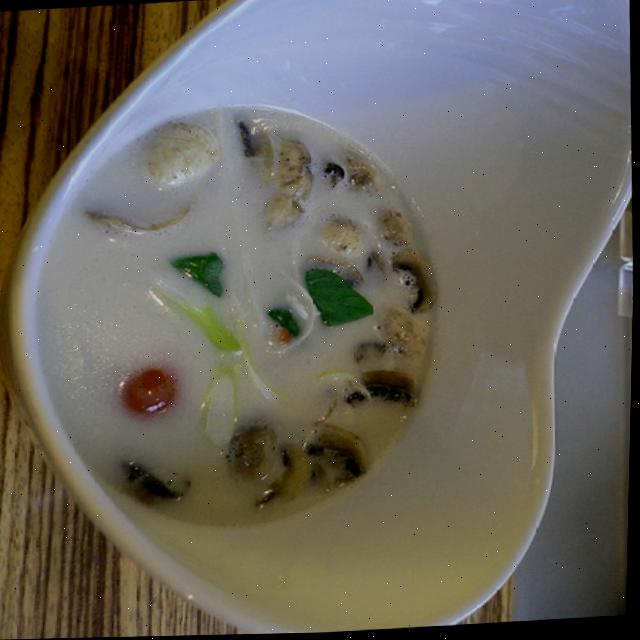汤锅炖物: (6, 0, 622, 638)
